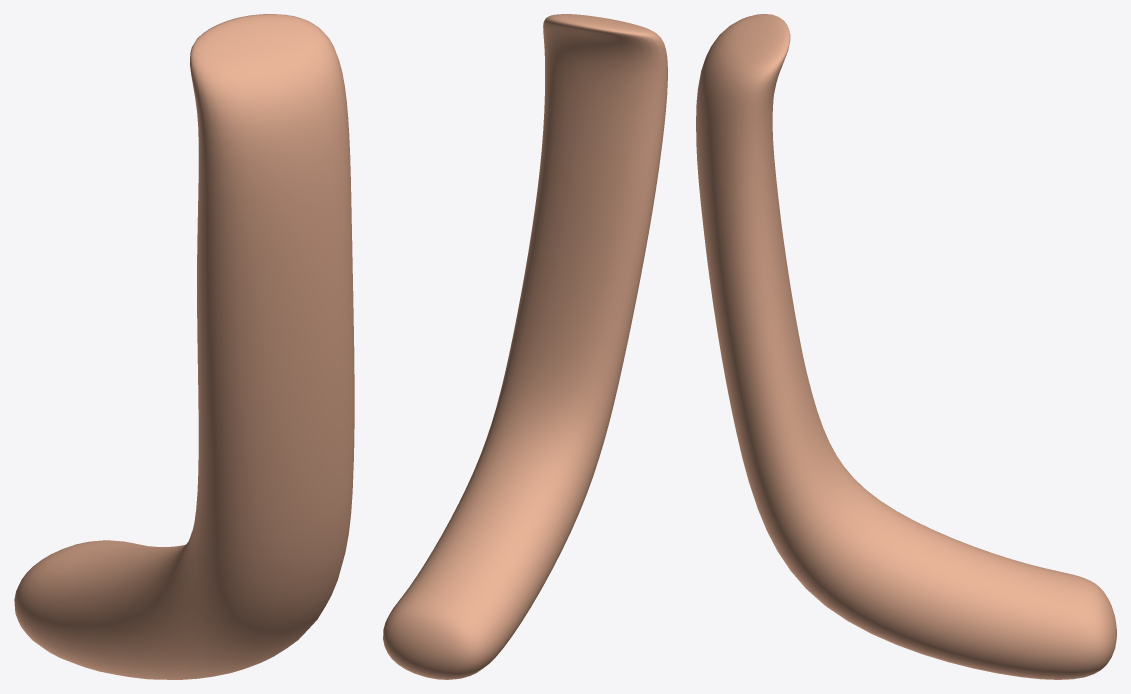
Rendered from tejido_erectil.fbx.
3 views of the same model, side by side, from view 1: azimuth 30°, elevation 25°; view 2: azimuth 150°, elevation 25°; view 3: azimuth 270°, elevation 25° (orthographic). The views are drawn at different scales.
Visible parts, largest first — view 1: Cube; view 2: Cube; view 3: Cube.
Part boxes in pixels (box(x1,y1,x2,y2)): Cube: box(14, 14, 354, 679); Cube: box(383, 14, 667, 679); Cube: box(696, 14, 1116, 679).
Bounding box in the file's own units: 2.29 × 9 × 5.48.
